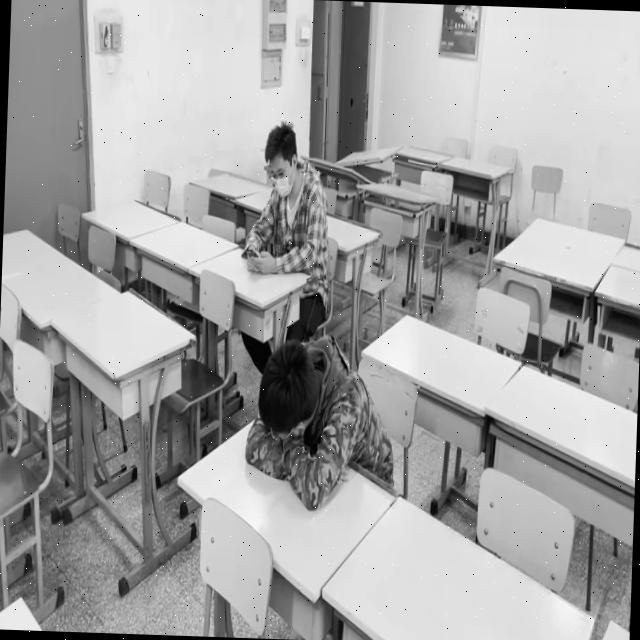phone: (247, 127, 318, 272)
sleep: (245, 339, 369, 510)
